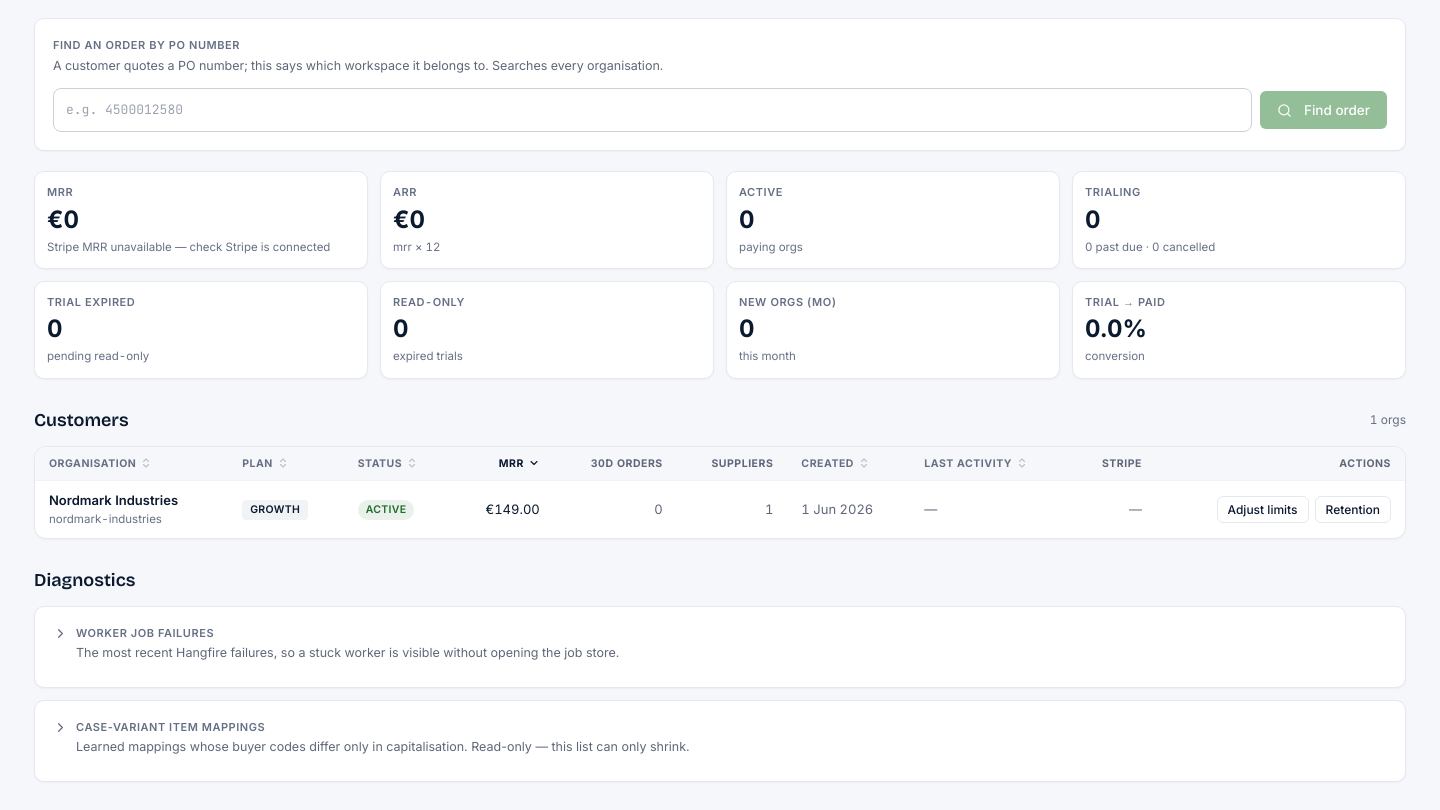
Test: admin — case-variant item mapping twins › renders a distinct, announced error — not 'no twins' — when the fetch fails
(page scrolled)
Expected: the heading "Customers" is shown, [34,407,129,434]
Click the button that starts with "Case-variant item mappings" at (171, 727), box [53,719,1387,763]
(page scrolled)
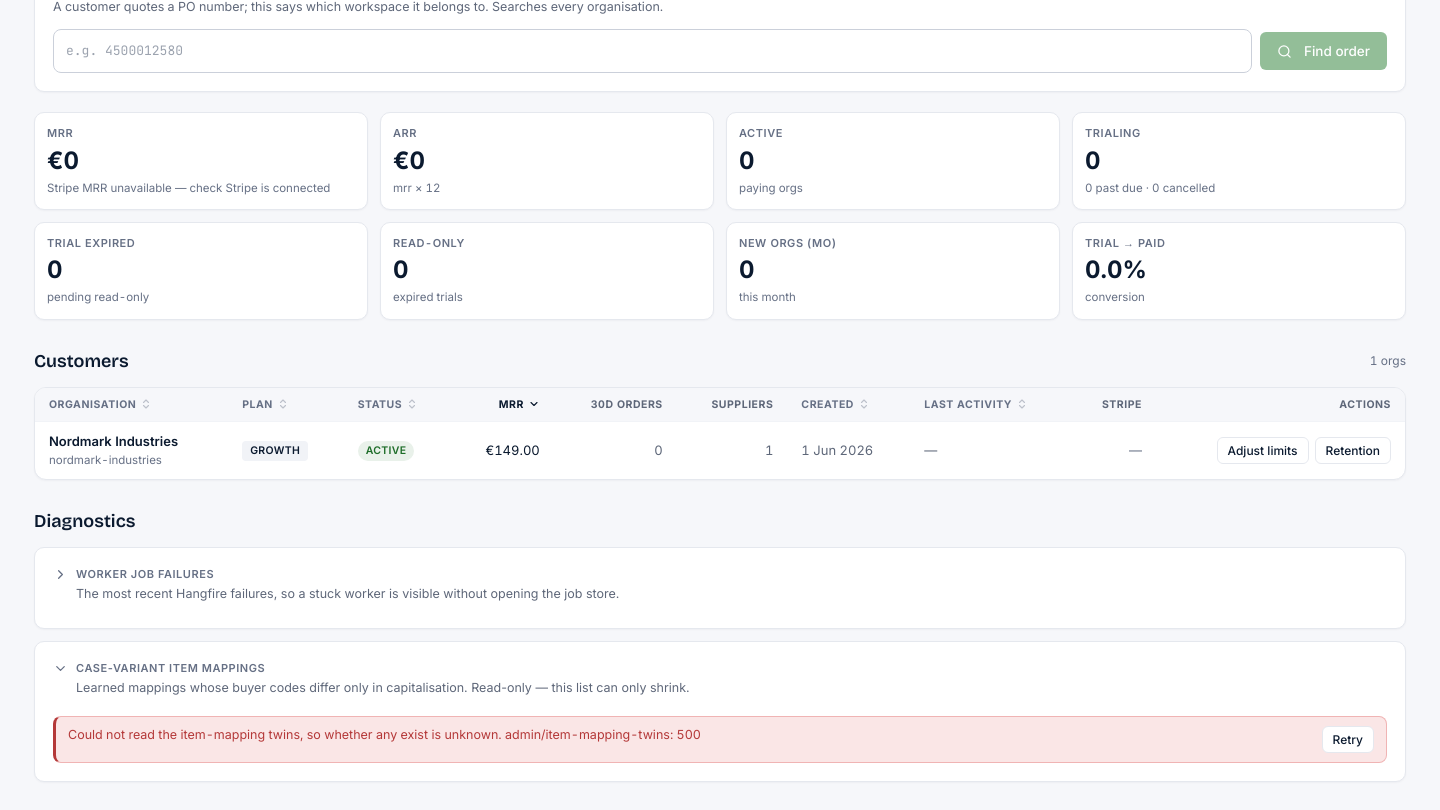
Result: the button "Retry" is shown at [1322,726,1374,753]
